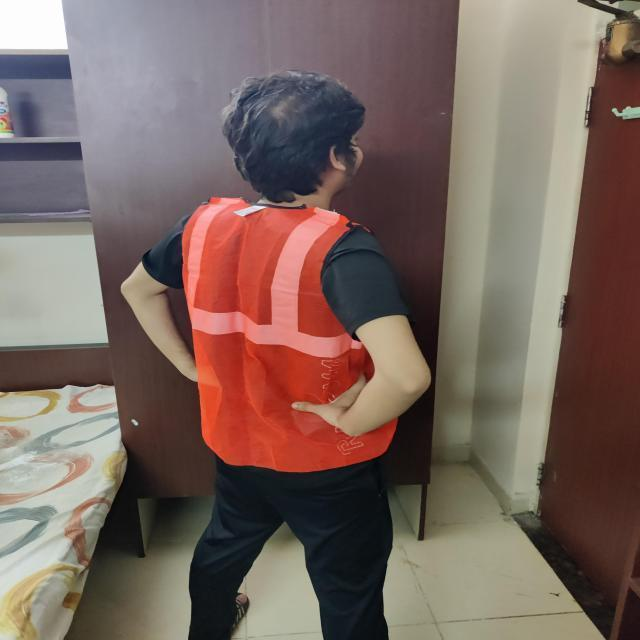no-helmet: (225, 73, 367, 167)
vest: (184, 197, 405, 474)
